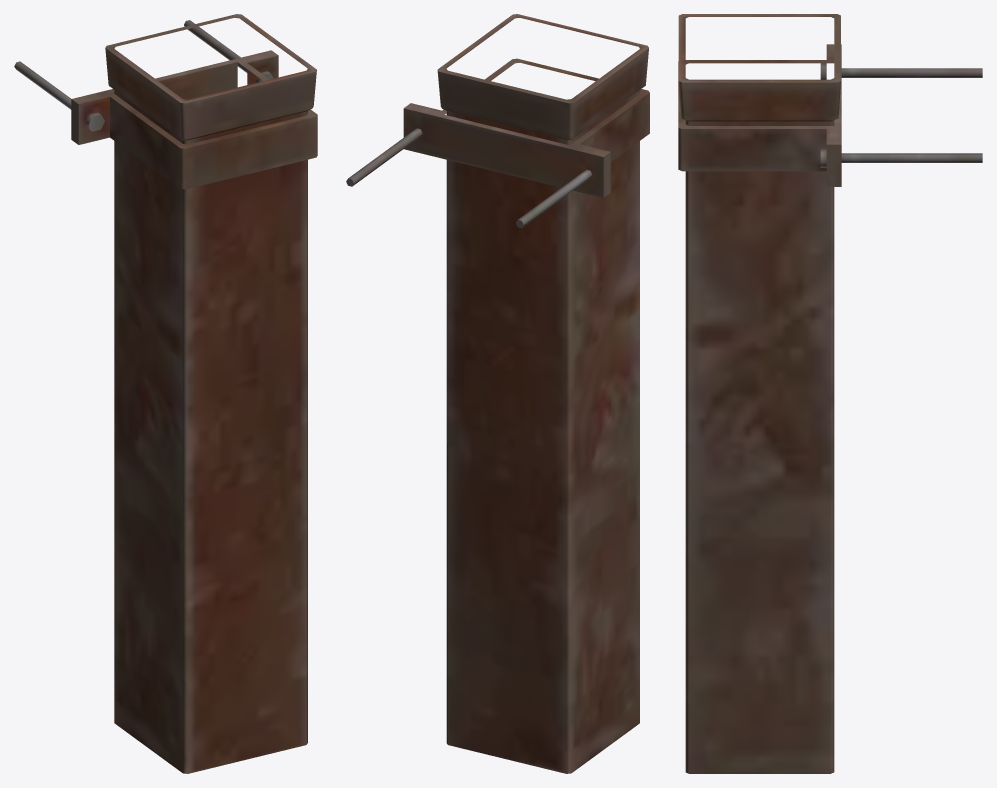
File: gutter_50.glb
3 views of the same model, side by side, from view 1: azimuth 30°, elevation 25°; view 2: azimuth 150°, elevation 25°; view 3: azimuth 270°, elevation 25° (orthographic). The views are drawn at different scales.
Parts seen in each view (by area): view 1: gutter_50, gutter_wall_connector; view 2: gutter_50, gutter_wall_connector; view 3: gutter_50, gutter_wall_connector.
Boxes of the visible parts, x1,y1,x2,y2 form: gutter_50: (105, 14, 316, 773); gutter_wall_connector: (14, 20, 317, 189); gutter_50: (437, 14, 648, 773); gutter_wall_connector: (346, 58, 649, 227); gutter_50: (678, 14, 840, 773); gutter_wall_connector: (678, 44, 982, 186).
Bounding box in the file's own units: 0.16 × 0.5156 × 0.205.
Materials: 1 (1 with a texture image).
